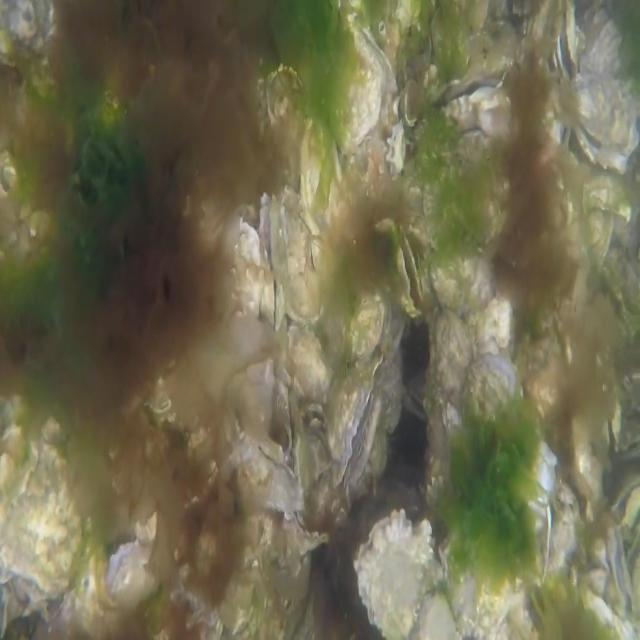Oyster-Closed: (438, 522, 538, 640), (331, 348, 387, 487), (231, 434, 307, 515), (286, 502, 332, 555)
Oyster-Indeterminate: (456, 345, 562, 502), (0, 416, 83, 600), (354, 503, 435, 640), (326, 0, 383, 151), (433, 304, 477, 467), (298, 112, 351, 236), (278, 183, 322, 326), (347, 285, 407, 368), (431, 242, 502, 306), (286, 317, 332, 413), (235, 221, 268, 320)
Oyster-Open: (568, 12, 640, 170), (432, 74, 511, 164), (258, 191, 282, 331), (606, 518, 635, 621), (400, 229, 431, 313), (556, 0, 579, 84), (608, 475, 640, 527), (600, 384, 623, 456)
